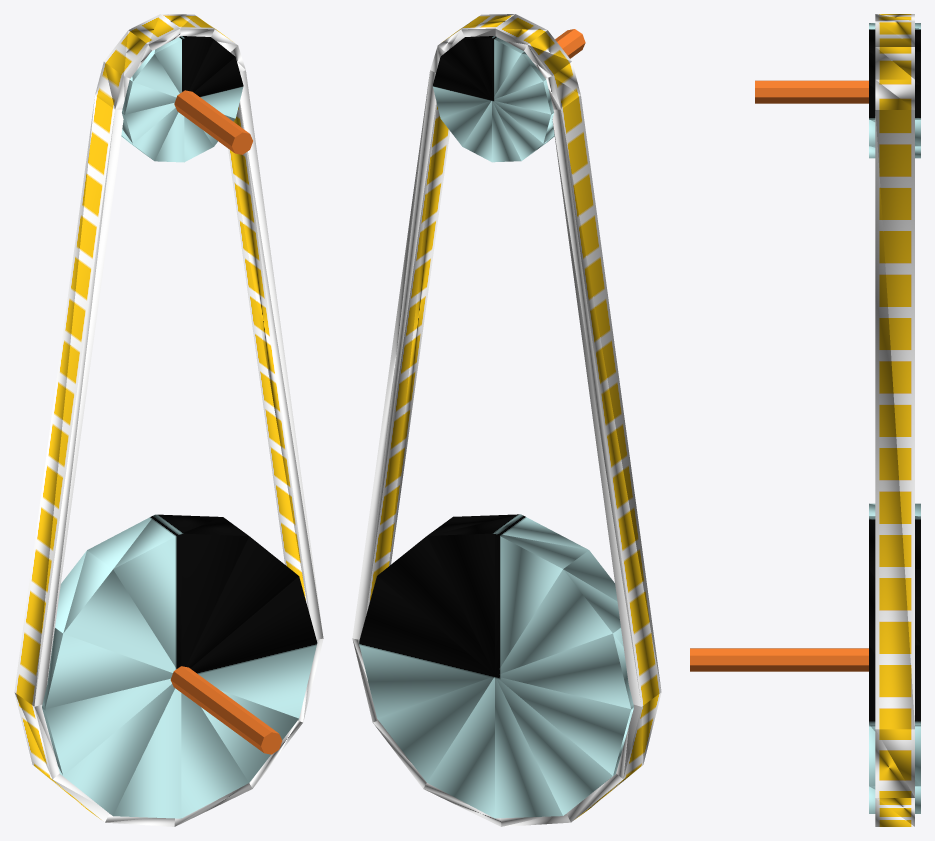
File: belt.FBX
The picture shows the model from 3 angles, left to right: view 1: azimuth 30°, elevation 25°; view 2: azimuth 150°, elevation 25°; view 3: azimuth 270°, elevation 25°; orthographic projection.
Visible parts, largest first — view 1: Cylinder004, Line001, Cylinder003, Cylinder002, Cylinder001; view 2: Cylinder004, Line001, Cylinder003, Cylinder001; view 3: Line001, Cylinder002, Cylinder004, Cylinder001, Cylinder003.
Part boxes in pixels (box(x1,y1,x2,y2)): Cylinder004: box(42, 514, 317, 818); Line001: box(14, 14, 323, 826); Cylinder003: box(121, 36, 243, 162); Cylinder002: box(170, 666, 282, 754); Cylinder001: box(174, 90, 252, 154); Cylinder004: box(359, 514, 633, 818); Line001: box(352, 14, 661, 826); Cylinder003: box(432, 36, 554, 162); Cylinder001: box(555, 29, 585, 58); Line001: box(875, 14, 914, 826); Cylinder002: box(690, 648, 868, 671); Cylinder004: box(869, 503, 920, 813); Cylinder001: box(755, 80, 868, 103); Cylinder003: box(869, 23, 920, 158).
Size of the model in its own units: 8.6 by 22.65 by 6.
3 materials, 3 textured.
